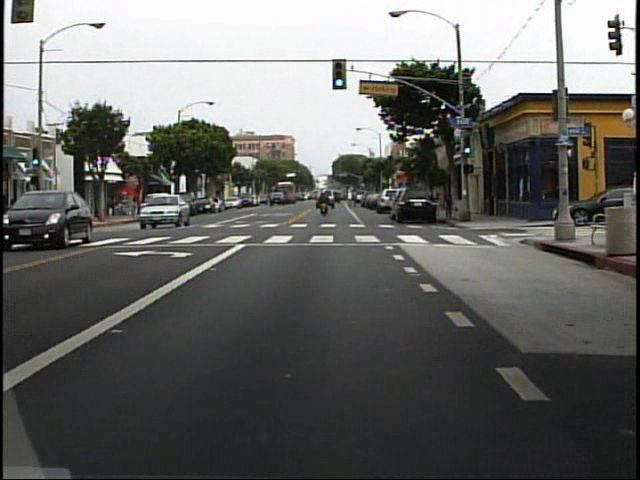person: (2, 193, 14, 226), (317, 188, 330, 216), (12, 193, 24, 214)
